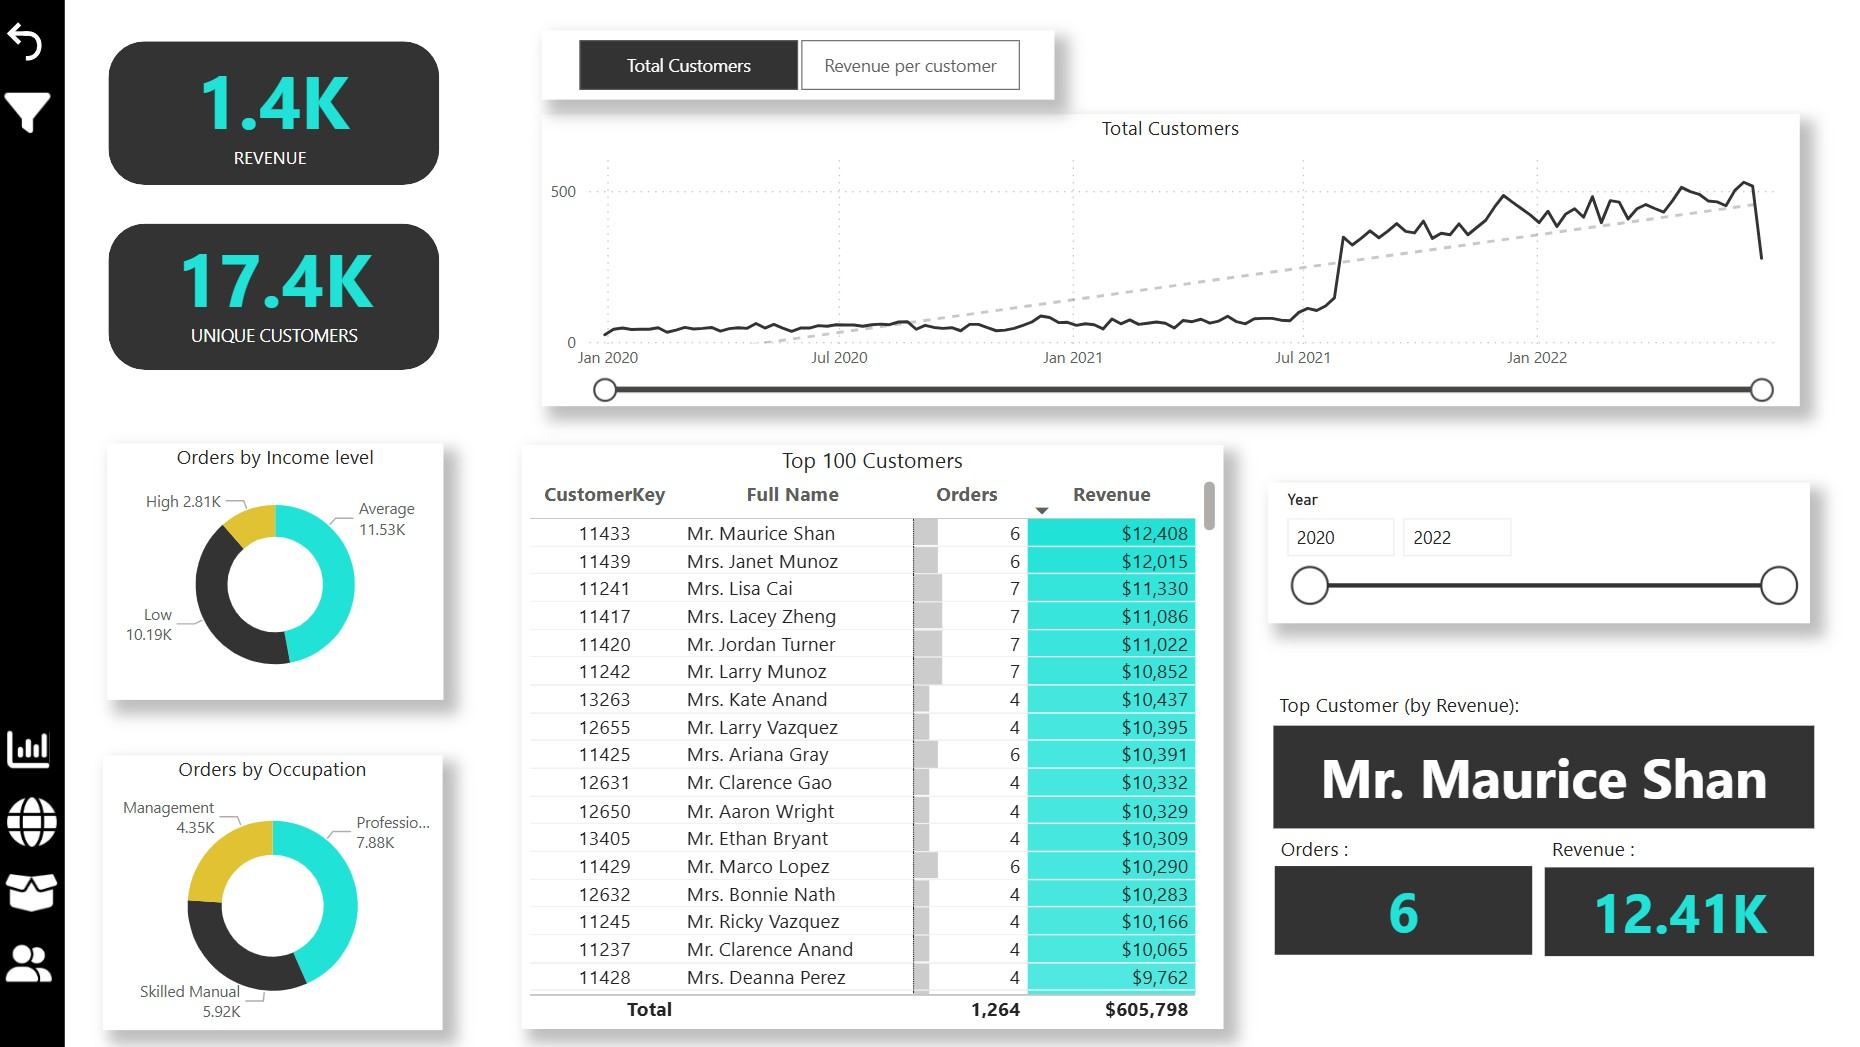

Layout of this report page (visuals, bound fields, positions):
{"tool":"powerbi","page":{"name":"Customer Details","canvas":[1280,720],"ordinal":3},"visuals":[{"type":"shape","title":"Left nav background","box":[-0.1,1,44.9,720.5],"z":0},{"type":"shape","box":[74.4,29.8,227,98.6],"z":1000},{"type":"actionButton","box":[2.2,496.6,42,37],"z":1000,"group":"g1"},{"type":"shape","box":[74.4,154.4,227,100.5],"z":2000},{"type":"actionButton","box":[2.2,544,42,42],"z":2000,"group":"g1"},{"type":"card","fields":{"Values":["Measure Table.Total Customers"]},"box":[81.9,122.8,212.1,150.7],"z":3000},{"type":"actionButton","box":[1,590.9,43.2,44.5],"z":3000,"group":"g1"},{"type":"card","fields":{"Values":["Measure Table.Average Revenue per customer"]},"box":[81.9,0,210.2,152.6],"z":4000},{"type":"actionButton","box":[1,641.6,39.5,39.5],"z":4000,"group":"g1"},{"type":"lineChart","fields":{"Y":["Measure Table.Total Customers"],"Category":["Calendar Lookup.Date Hierarchy.Start of Year","Calendar Lookup.Date Hierarchy.Start of Month","Calendar Lookup.Date Hierarchy.Start of Week","Calendar Lookup.Date Hierarchy.Date"]},"box":[372,79.3,861.2,200.1],"z":5000},{"type":"donutChart","title":"Orders by Income level","fields":{"Y":["Measure Table.Total Orders"],"Category":["Customer Lookup.Income level"]},"box":[74.4,305,230.5,175.7],"z":6000},{"type":"donutChart","title":"Orders by Occupation","fields":{"Y":["Measure Table.Total Orders"],"Category":["Customer Lookup.Occupation"]},"box":[71.5,518.4,232.4,188.2],"z":7000},{"type":"tableEx","title":"Top 100 Customers","fields":{"Values":["Customer Lookup.CustomerKey","Customer Lookup.Full Name","Measure Table.Total Orders","Measure Table.Total Revenue"]},"box":[357.4,306.2,480.6,400.1],"z":8000},{"type":"card","fields":{"Values":["Measure Table.Full Name(Customer Details)"]},"box":[872.5,498.6,370.1,70.4],"z":9000},{"type":"card","fields":{"Values":["Measure Table.Total Orders(Customer Details)"]},"box":[873.4,594.7,176.6,60.5],"z":10000},{"type":"card","fields":{"Values":["Measure Table.Total Revenue(Customer Details)"]},"box":[1058.6,595.3,184.2,60.4],"z":11000},{"type":"textbox","box":[872.1,470,185.2,64.2],"z":12000},{"type":"textbox","box":[872.5,568.9,175.9,60.5],"z":13000},{"type":"textbox","box":[1058.3,568.9,174.5,60.5],"z":14000},{"type":"slicer","fields":{"Values":["Calendar Lookup.Year"]},"box":[868.5,331.8,370.8,96.4],"z":15000},{"type":"actionButton","box":[0,11.6,45.2,35.8],"z":16000},{"type":"group","id":"g1","title":"Navigation Buttons","box":[1,496.6,43.2,184.5],"z":17000},{"type":"actionButton","box":[0,59.3,44.5,39.5],"z":18000},{"type":"slicer","fields":{"Values":["Customer Metric Selection .Customer Metric Selection "]},"box":[372,22,351.3,47.6],"z":20501}]}

Visuals, with their boxes on the page's 1280x720 design canvas (x1, y1, x2, y2). These are canvas units, not pixel positions in the 1860x1047 screenshot, which may show the page scaled, cropped or inside an application window:
"Left nav background" shape: [0, 1, 45, 722]
shape: [74, 30, 301, 128]
actionButton: [2, 497, 44, 534]
shape: [74, 154, 301, 255]
actionButton: [2, 544, 44, 586]
card - Measure Table.Total Customers: [82, 123, 294, 274]
actionButton: [1, 591, 44, 635]
card - Measure Table.Average Revenue per customer: [82, 0, 292, 153]
actionButton: [1, 642, 40, 681]
lineChart - Measure Table.Total Customers x Calendar Lookup.Date Hierarchy.Start of Year: [372, 79, 1233, 279]
"Orders by Income level" donutChart: [74, 305, 305, 481]
"Orders by Occupation" donutChart: [72, 518, 304, 707]
"Top 100 Customers" tableEx: [357, 306, 838, 706]
card - Measure Table.Full Name(Customer Details): [872, 499, 1243, 569]
card - Measure Table.Total Orders(Customer Details): [873, 595, 1050, 655]
card - Measure Table.Total Revenue(Customer Details): [1059, 595, 1243, 656]
textbox: [872, 470, 1057, 534]
textbox: [872, 569, 1048, 629]
textbox: [1058, 569, 1233, 629]
slicer - Calendar Lookup.Year: [868, 332, 1239, 428]
actionButton: [0, 12, 45, 47]
"Navigation Buttons" group: [1, 497, 44, 681]
actionButton: [0, 59, 44, 99]
slicer - Customer Metric Selection .Customer Metric Selection : [372, 22, 723, 70]
